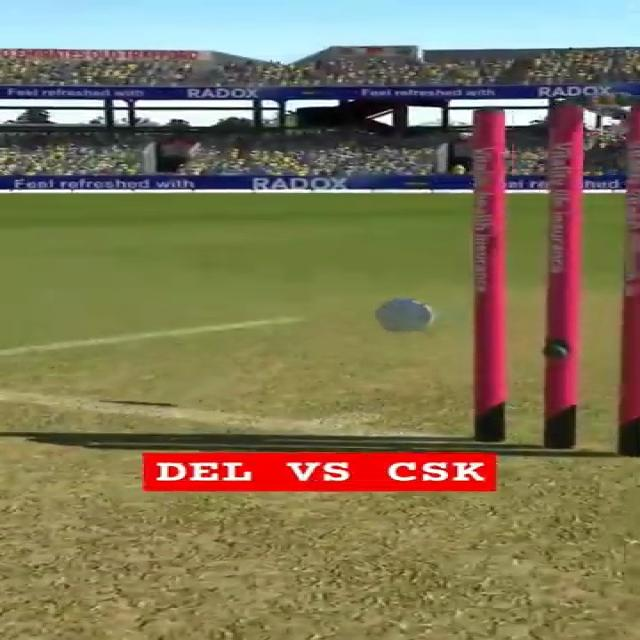ball: (377, 298, 432, 331)
